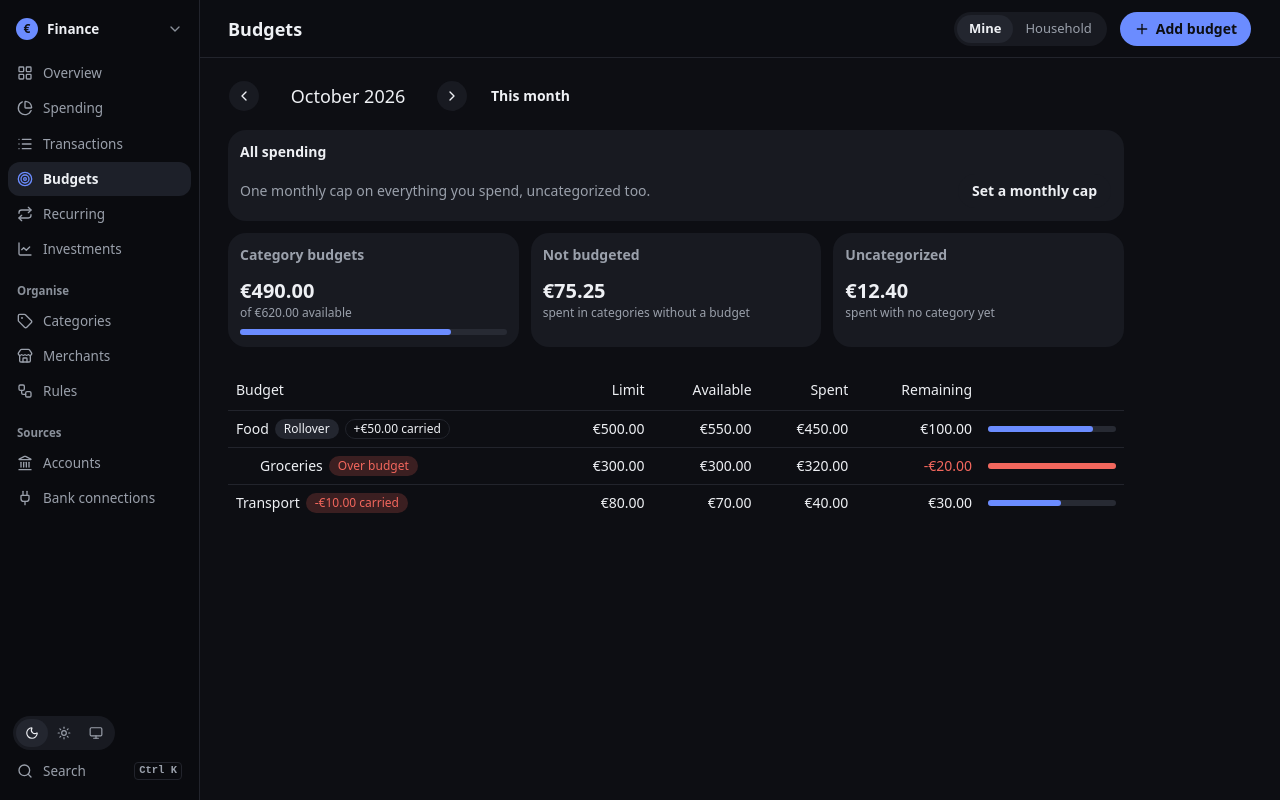
it: shows the API's reason when a budget can't be saved
Click the button "Transport": [268, 503] box [236, 493, 300, 513]
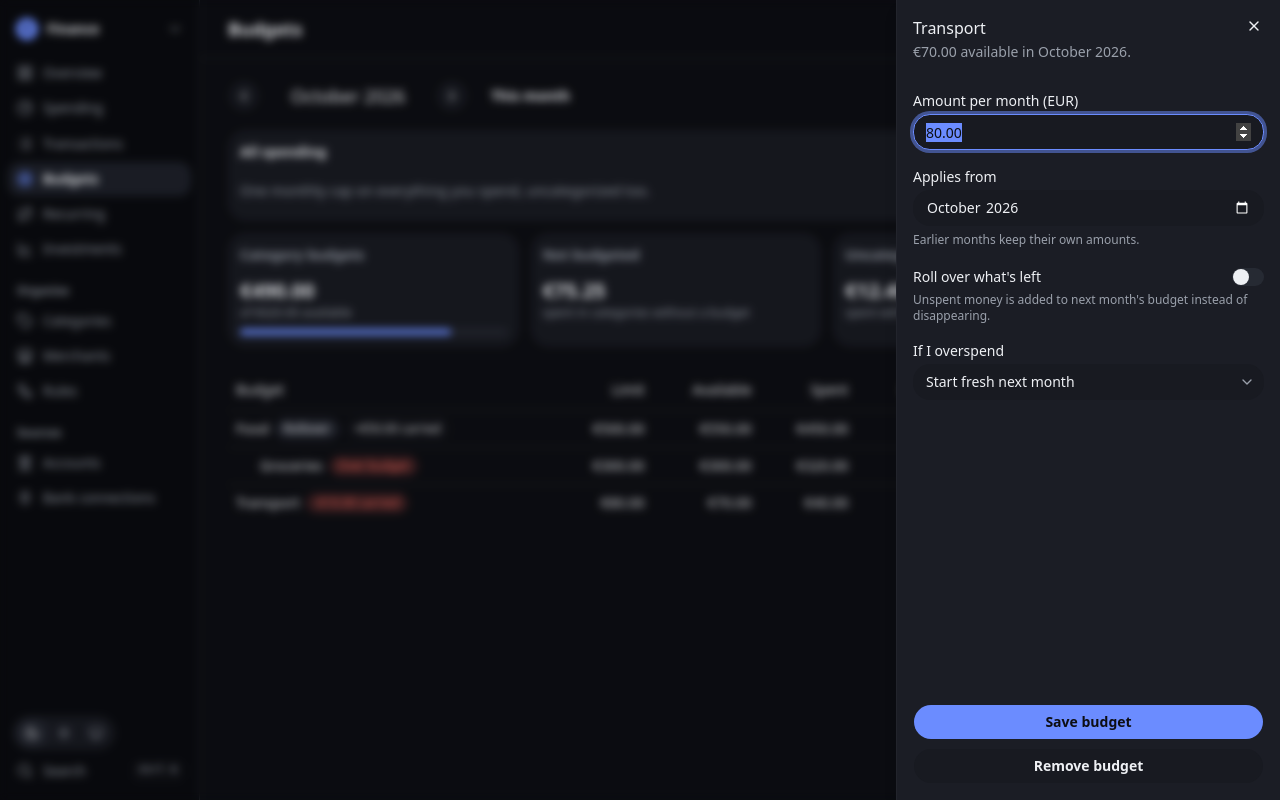
Click the button "Save budget": [1088, 722] box [913, 704, 1264, 740]
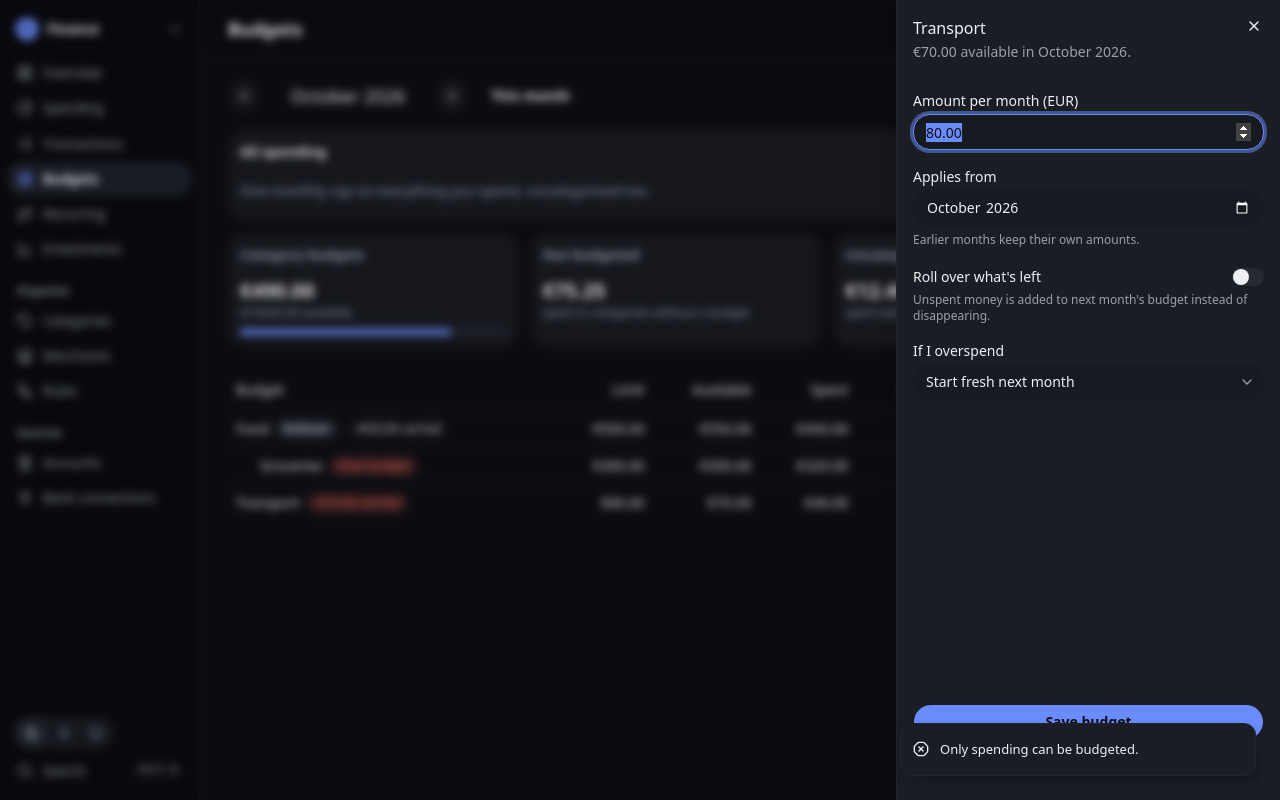
Now the dialog is shown, box [896, 0, 1279, 799]
Now the text "Only spending can be budgeted." is shown, box [940, 740, 1138, 759]
